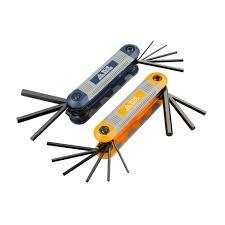wrench: (28, 104, 64, 141), (166, 93, 196, 131), (165, 91, 208, 116), (60, 148, 98, 176), (84, 140, 108, 183), (14, 103, 61, 123), (135, 59, 185, 73), (18, 87, 64, 102), (111, 140, 130, 174), (49, 149, 95, 163), (161, 85, 173, 137), (45, 139, 97, 150), (139, 42, 169, 59), (139, 48, 179, 60), (136, 38, 155, 58), (131, 57, 185, 63), (104, 138, 111, 183)
